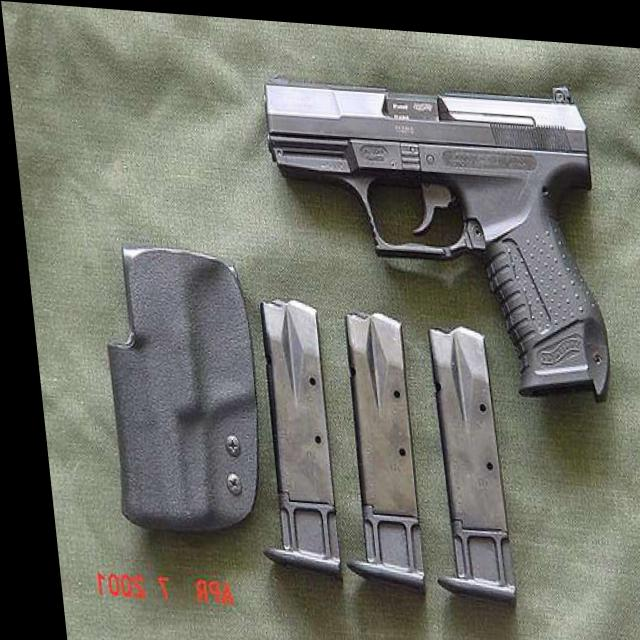handgun: (255, 52, 609, 394)
